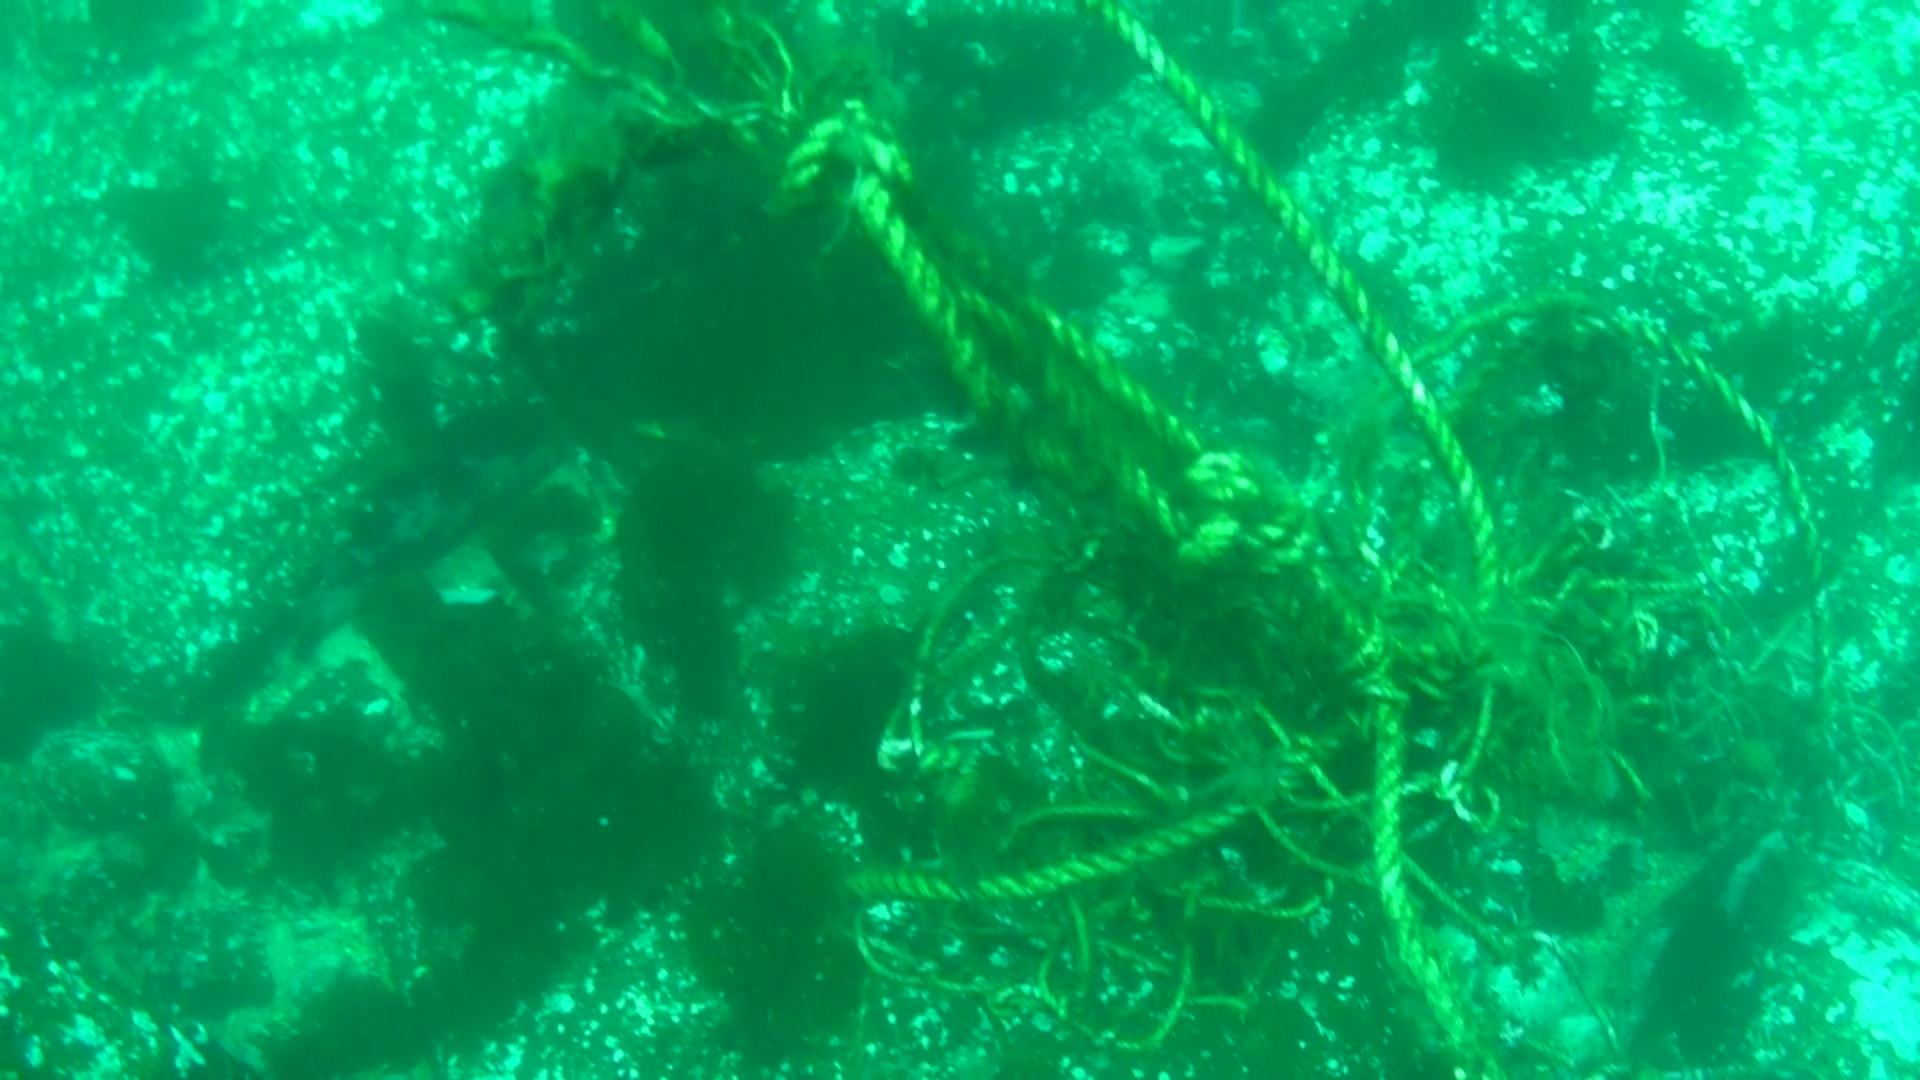bundle of ropes: (771, 0, 1840, 1080)
